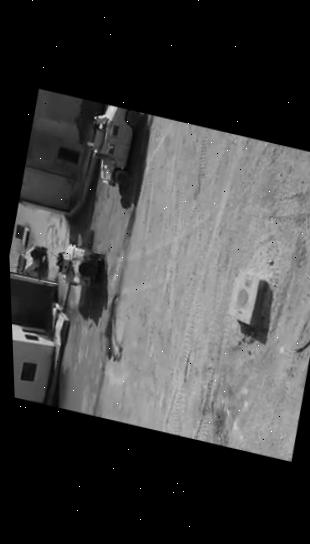armored_car: (76, 101, 143, 191), (50, 240, 108, 293), (12, 241, 50, 280)
